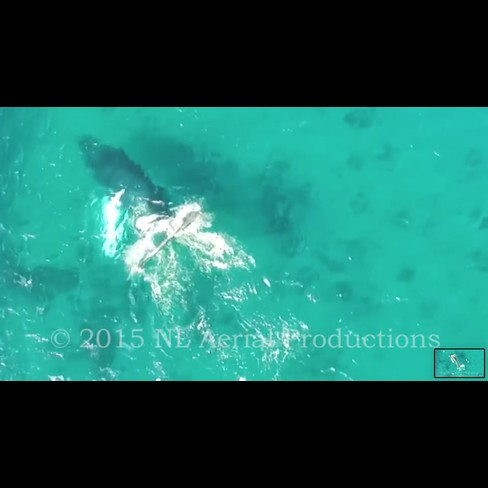hump: (72, 133, 203, 274)
